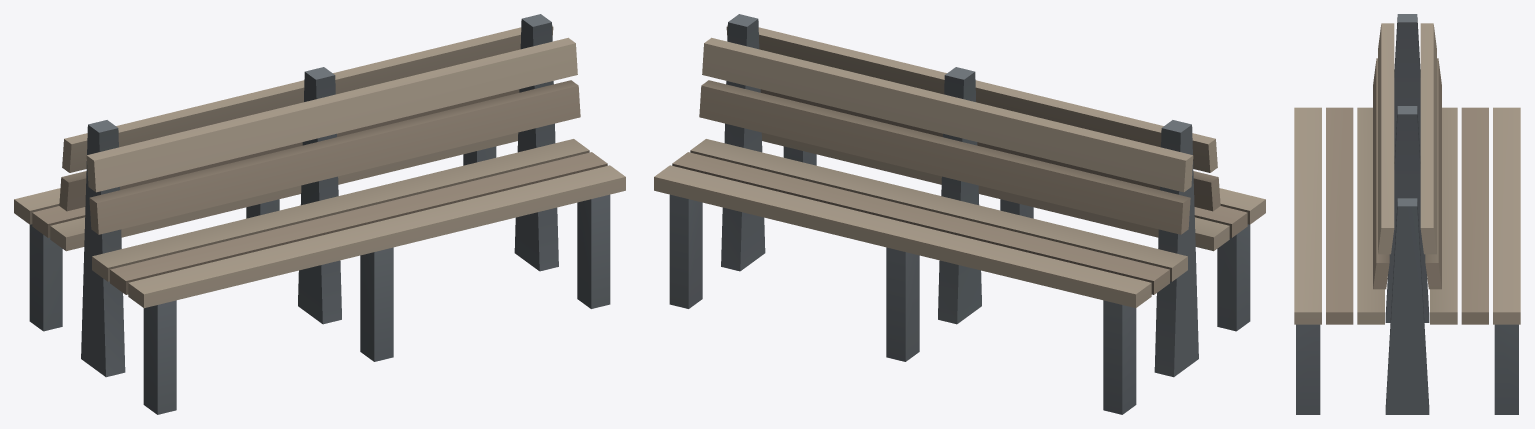
File: bench.lod2.glb
The picture shows the model from 3 angles, left to right: view 1: azimuth 30°, elevation 25°; view 2: azimuth 150°, elevation 25°; view 3: azimuth 270°, elevation 25°; orthographic projection. The views are drawn at different scales.
Size of the model in its own units: 2 by 0.95 by 0.934.
